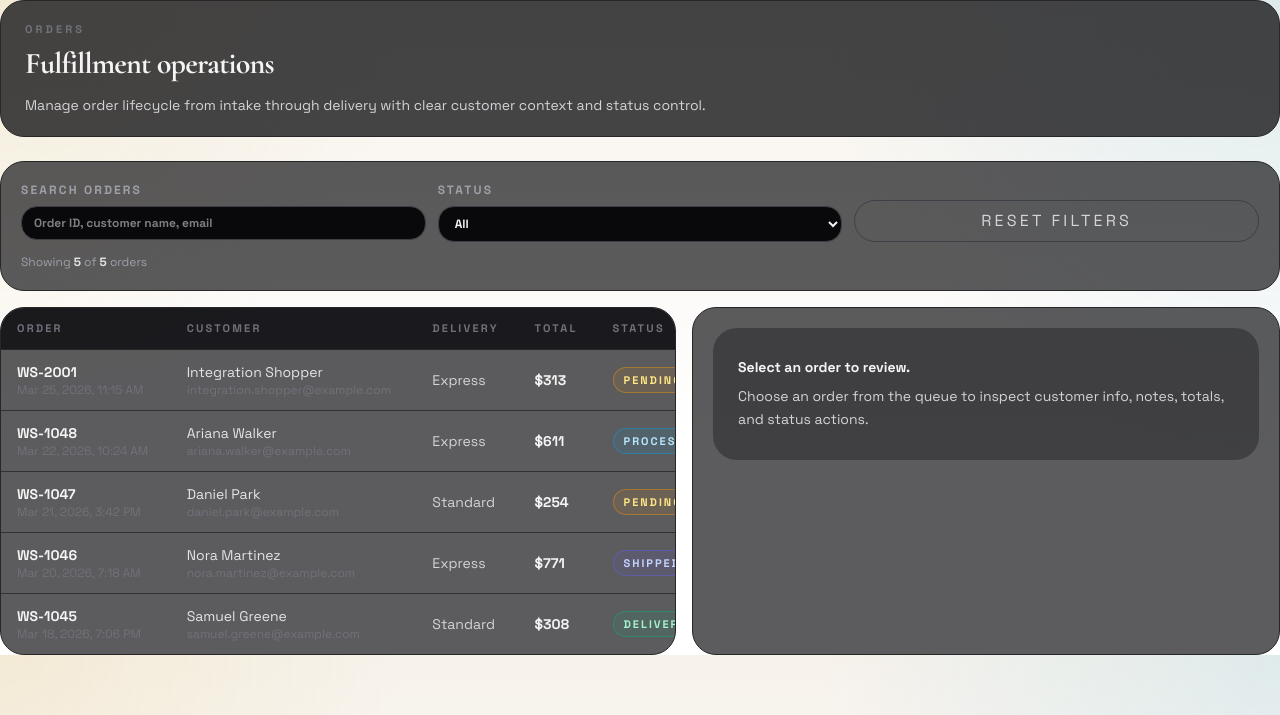
Test case: admin-to-storefront integrated truth flows › reflects shopper checkout orders in admin and persists status updates
The image size is (1280, 715).
Expected: the button "WS-1048" is shown, left=1, top=410, right=675, bottom=471
Expected: the button "WS-2001" is shown, left=1, top=349, right=675, bottom=410
Click the button "WS-2001".
click(371, 380)  # box left=1, top=349, right=741, bottom=410
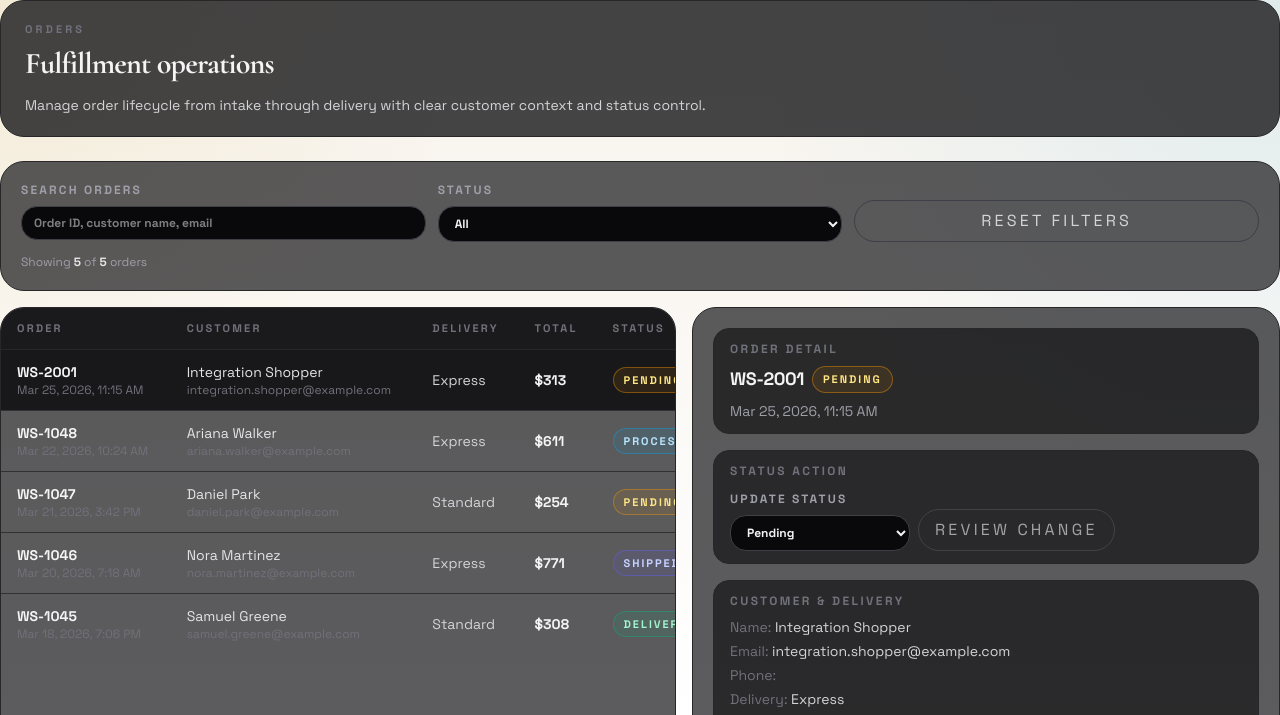
Expected: the text "Integration Shopper" is shown, left=187, top=363, right=323, bottom=381
Now the text "Order detail" is shown, box left=730, top=341, right=838, bottom=357
Select "Shipped" in the dropdown labelled "Update status" at (820, 533), box left=730, top=515, right=910, bottom=551
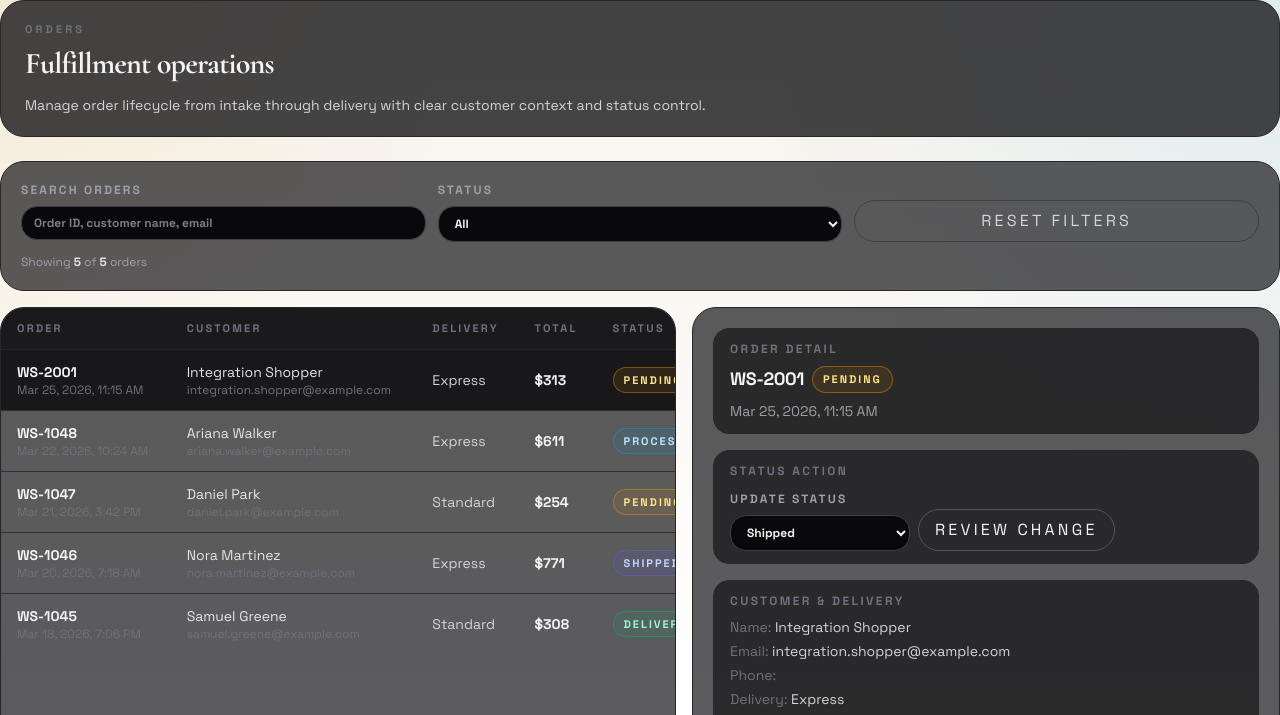
Click the button "Review change".
click(1016, 530)  # box left=918, top=509, right=1115, bottom=551
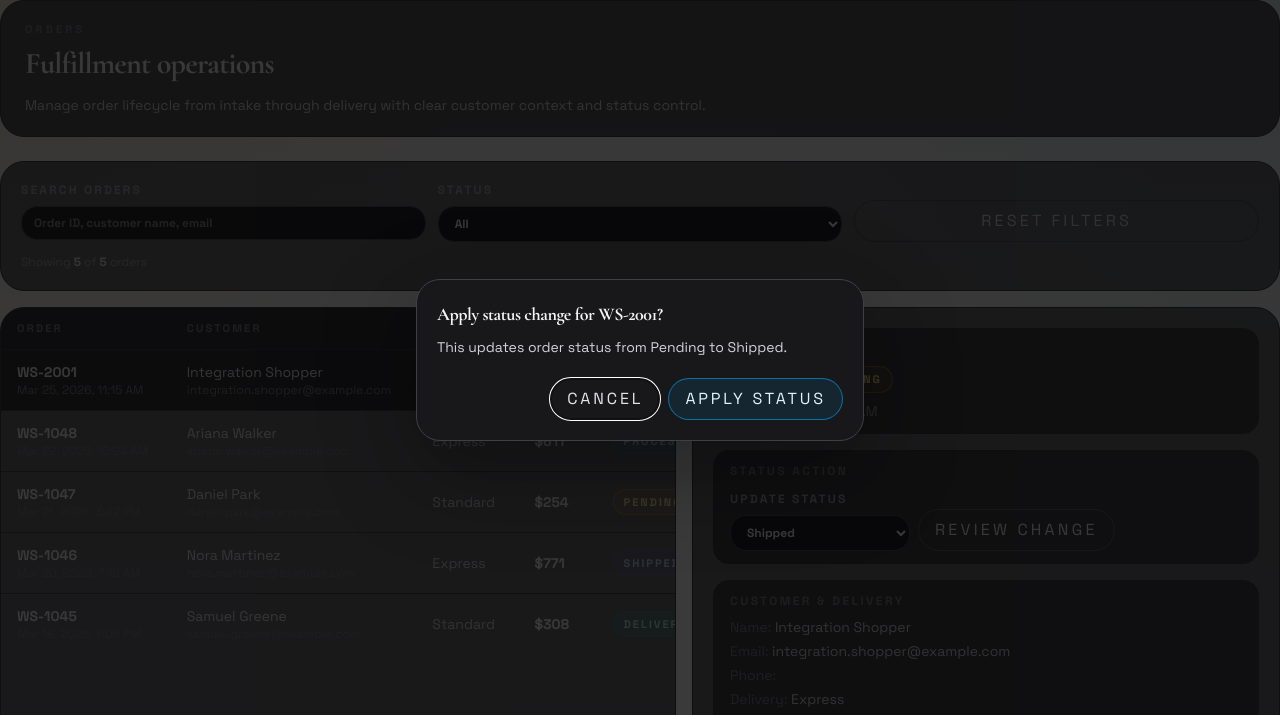
Now the dialog is shown, box left=416, top=279, right=864, bottom=441
Click the button "Apply status".
click(756, 399)  # box left=668, top=378, right=843, bottom=420
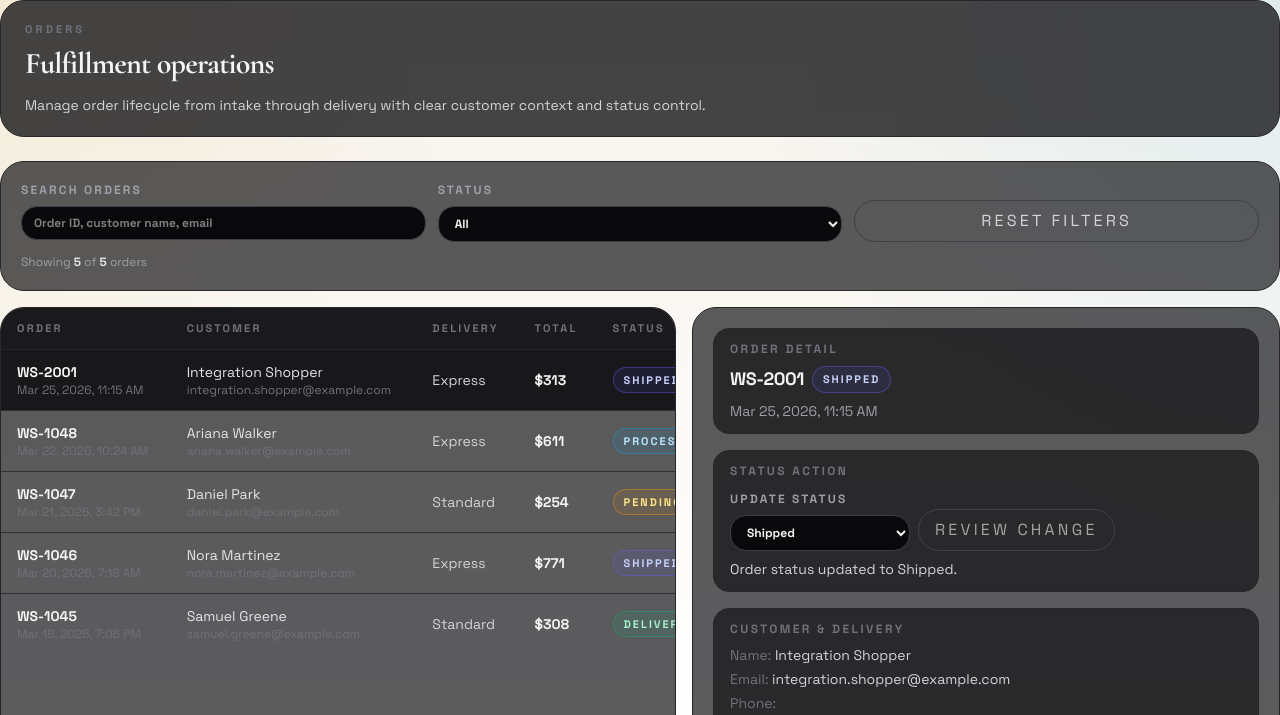
Now the text "Order status updated to Shipped." is shown, box left=730, top=560, right=957, bottom=578
